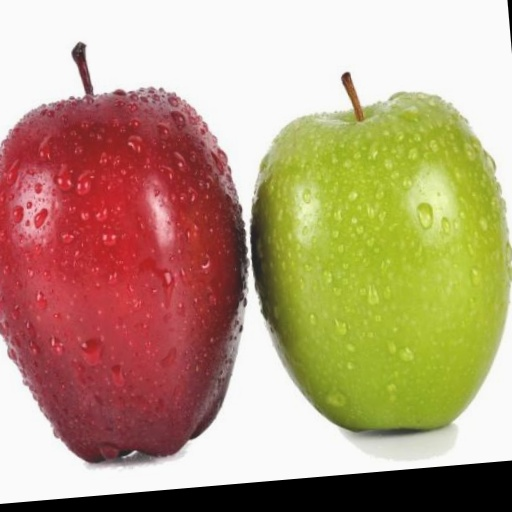fruit: (0, 44, 247, 461), (252, 74, 512, 430)
